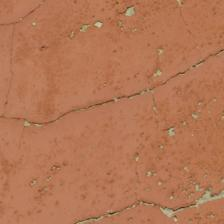Crack: (37, 0, 189, 69), (0, 180, 126, 224), (130, 63, 157, 101)
